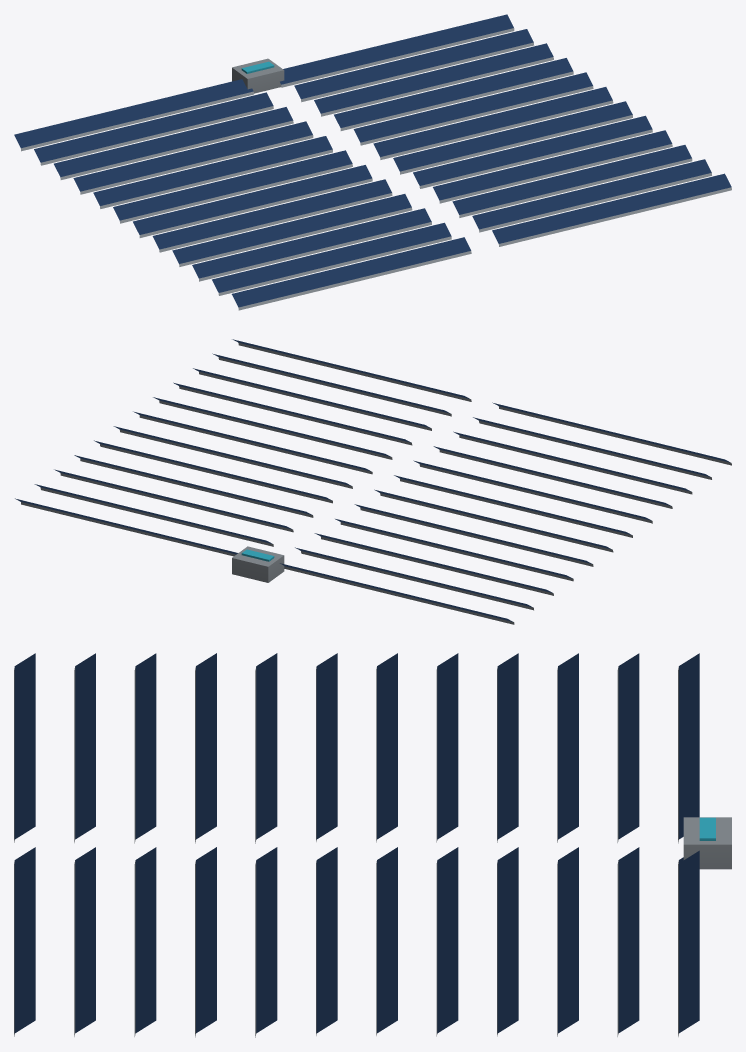
Rendered from plant_solar_l3.fbx.
3 renders of one model, top to bottom at view 1: azimuth 30°, elevation 25°; view 2: azimuth 150°, elevation 25°; view 3: azimuth 270°, elevation 25°, orthographic. The views are drawn at different scales.
Visible parts, largest first — view 1: plant_solar_l3; view 2: plant_solar_l3; view 3: plant_solar_l3.
Part boxes in pixels (x1,y1,x2,y2): plant_solar_l3: (14, 14, 731, 310); plant_solar_l3: (15, 339, 731, 624); plant_solar_l3: (14, 653, 731, 1037).
Bounding box in the file's own units: 108 × 3.8 × 89.2.
